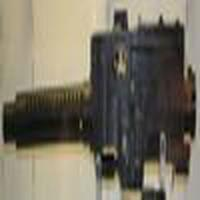gun: (6, 29, 193, 184)
